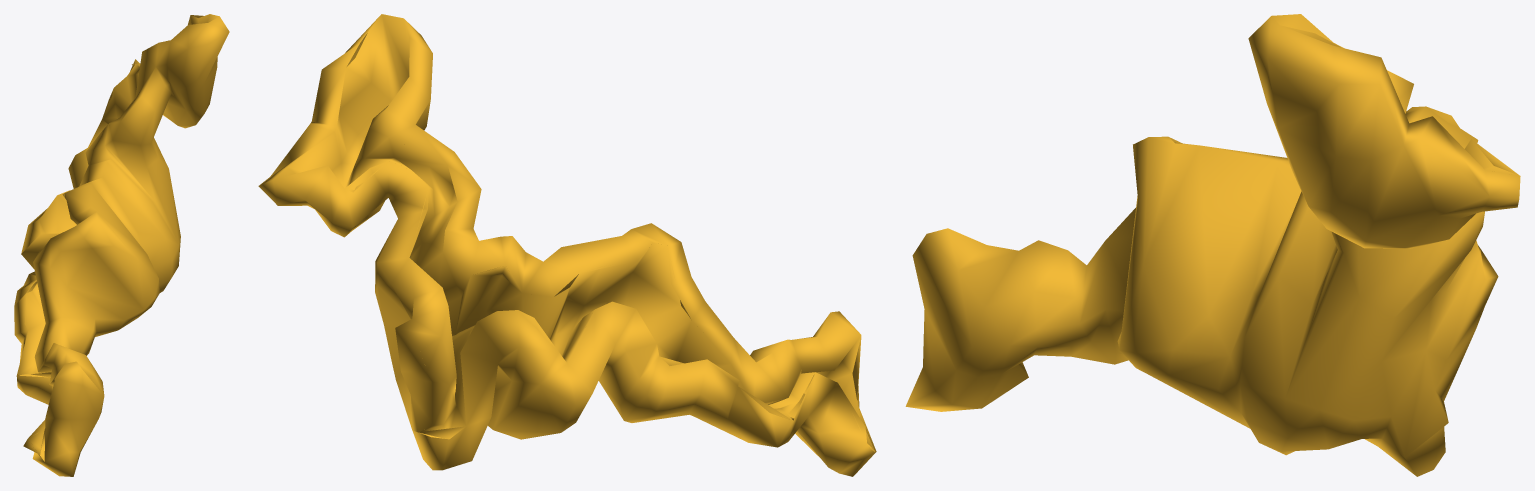
Rendered from nervoso-postcentral-sulcus-r.glb.
The picture shows the model from 3 angles, left to right: view 1: azimuth 30°, elevation 25°; view 2: azimuth 150°, elevation 25°; view 3: azimuth 270°, elevation 25°; orthographic projection. The views are drawn at different scales.
Visible parts, largest first — view 1: Postcentral sulcus.r; view 2: Postcentral sulcus.r; view 3: Postcentral sulcus.r.
Boxes of the visible parts, x1,y1,x2,y2 form: Postcentral sulcus.r: (14, 14, 229, 476); Postcentral sulcus.r: (258, 14, 876, 476); Postcentral sulcus.r: (905, 14, 1520, 476).
Size of the model in its own units: 0.0422 by 0.0447 by 0.0406.
